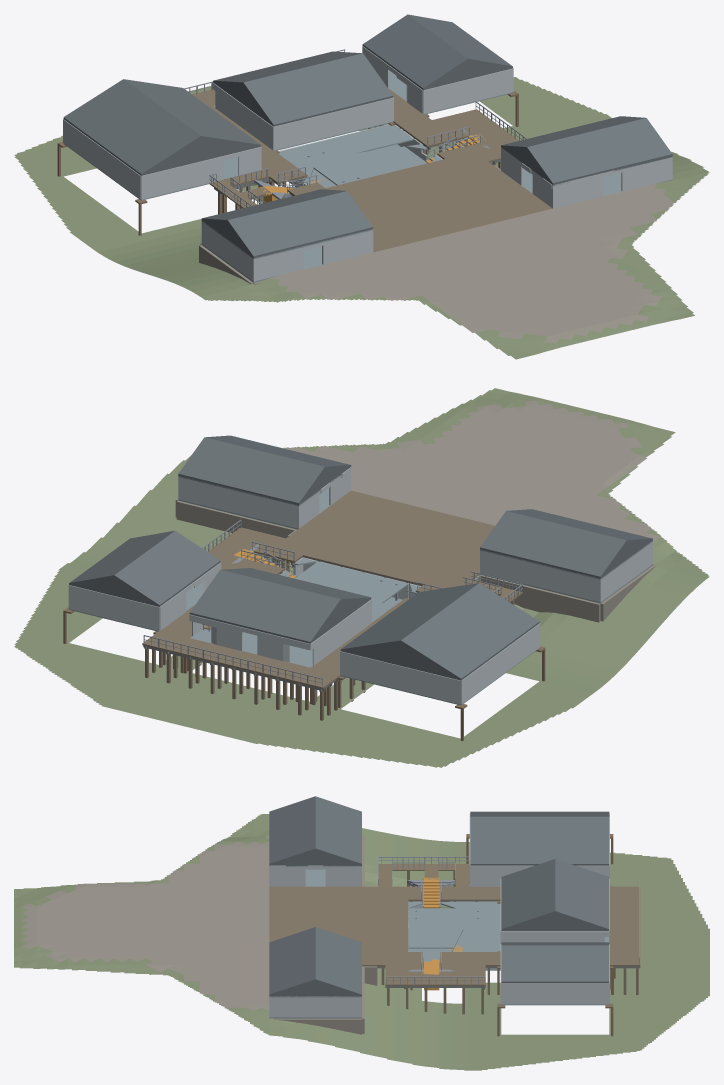
The model's file is saved-earthworks.glb.
The picture shows the model from 3 angles, top to bottom: view 1: azimuth 30°, elevation 25°; view 2: azimuth 150°, elevation 25°; view 3: azimuth 270°, elevation 25°; orthographic projection. The views are drawn at different scales.
Visible parts, largest first — view 1: Saved editor geographic earthworks WLD-06, WLD-06 quay platform structural surface region0, boathouse roof west, fish-house roof south, west-cottage roof south, east-cottage roof south, net-store roof west, WLD-06 east pier-head landing structural surface region0, Wall fish S, boathouse roof east, Wall net S, Flat route shell Wall boathouse S (+21 smaller); view 2: Saved editor geographic earthworks WLD-06, WLD-06 quay platform structural surface region0, boathouse roof west, fish-house roof north, east-cottage roof north, west-cottage roof north, net-store roof west, WLD-06 cross dock structural surface region0, Wall boathouse N, boathouse roof east, Entrance rebuild WLD-06 cottage-a N end, Entrance rebuild WLD-06 cottage-b N end (+17 smaller); view 3: Saved editor geographic earthworks WLD-06, WLD-06 quay platform structural surface region0, boathouse roof east, net-store roof east, fish-house roof south, fish-house roof north, WLD-06 east pier-head landing structural surface region0, west-cottage roof north, west-cottage roof south, east-cottage roof south, east-cottage roof north, WLD-06 cross dock structural surface region0 (+15 smaller).
Part boxes in pixels (x1,y1,x2,y2): Saved editor geographic earthworks WLD-06: (14, 77, 709, 359); WLD-06 quay platform structural surface region0: (322, 152, 552, 252); boathouse roof west: (63, 79, 200, 174); fish-house roof south: (243, 53, 393, 126); west-cottage roof south: (227, 191, 373, 257); east-cottage roof south: (527, 118, 672, 184); net-store roof west: (362, 14, 468, 89); WLD-06 east pier-head landing structural surface region0: (402, 109, 518, 162); Wall fish S: (273, 97, 393, 150); boathouse roof east: (124, 79, 260, 146); Wall net S: (423, 68, 513, 113); Flat route shell Wall boathouse S: (141, 156, 223, 199); Saved editor geographic earthworks WLD-06: (14, 388, 709, 767); WLD-06 quay platform structural surface region0: (274, 490, 494, 588); boathouse roof west: (401, 583, 539, 680); fish-house roof north: (189, 570, 340, 643); east-cottage roof north: (178, 437, 324, 504); west-cottage roof north: (480, 511, 626, 578); net-store roof west: (114, 530, 220, 606); WLD-06 cross dock structural surface region0: (142, 631, 340, 688); Wall boathouse N: (340, 651, 461, 704); boathouse roof east: (340, 583, 478, 650); Entrance rebuild WLD-06 cottage-a N end: (480, 550, 601, 602); Entrance rebuild WLD-06 cottage-b N end: (178, 477, 299, 528); Saved editor geographic earthworks WLD-06: (14, 814, 709, 1070); WLD-06 quay platform structural surface region0: (269, 886, 408, 966); boathouse roof east: (470, 816, 609, 865); net-store roof east: (501, 945, 609, 982); fish-house roof south: (501, 859, 555, 930); fish-house roof north: (555, 859, 609, 930); WLD-06 east pier-head landing structural surface region0: (385, 952, 485, 985); west-cottage roof north: (315, 796, 361, 865); west-cottage roof south: (269, 796, 315, 865); east-cottage roof south: (269, 927, 315, 995); east-cottage roof north: (315, 927, 361, 995); WLD-06 cross dock structural surface region0: (609, 886, 640, 966).
Bounding box in the file's own units: 70 × 11.34 × 90.
41 materials, 16 textured.
